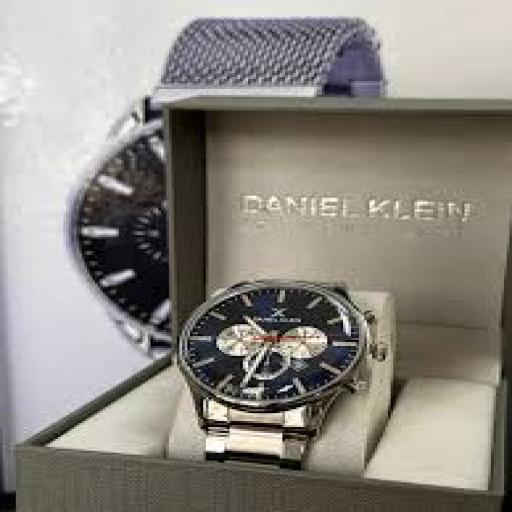KolSaati: (149, 250, 383, 494)
